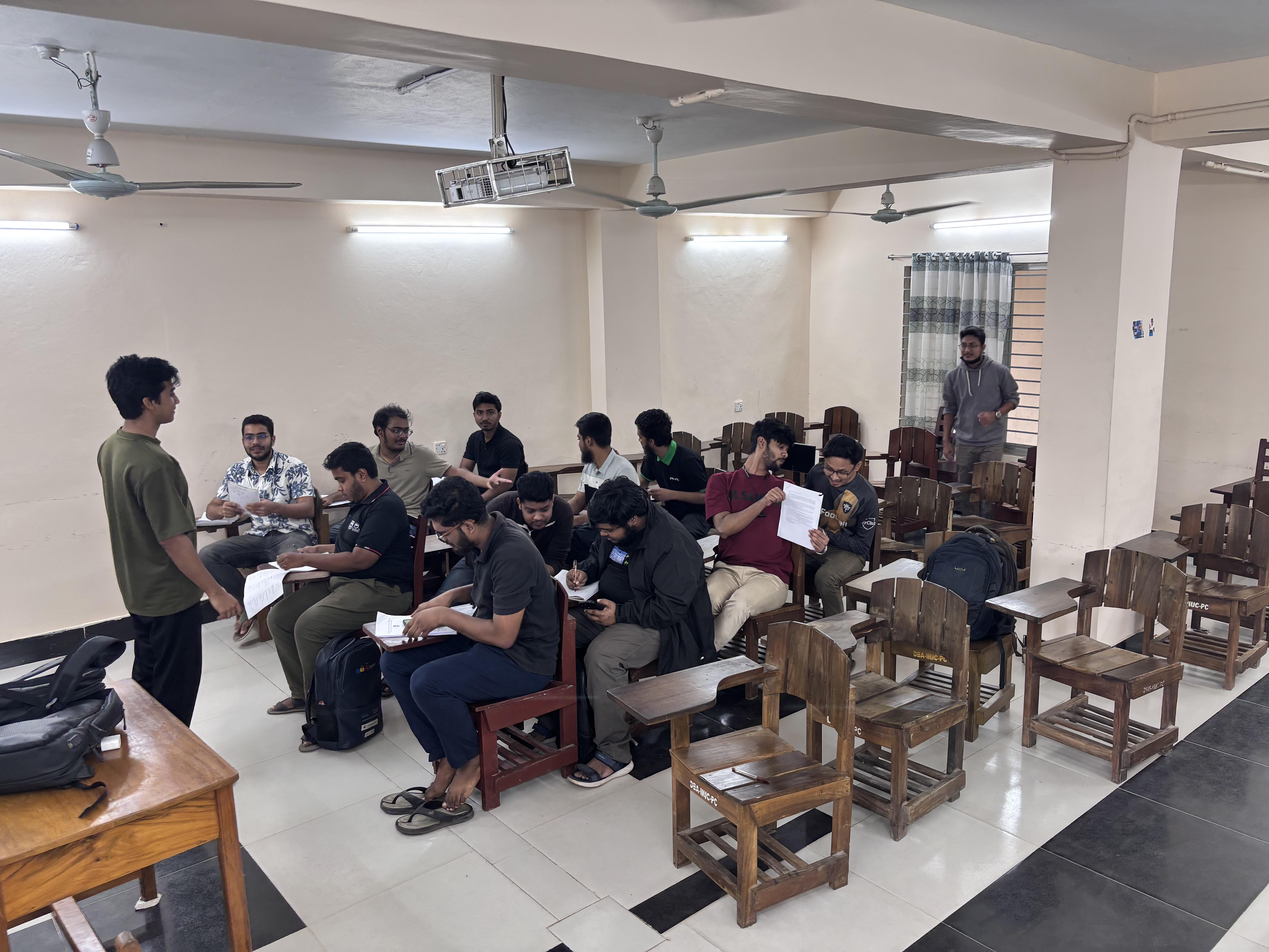copying: (488, 462, 577, 560), (629, 397, 700, 491)
hidden_communication: (711, 411, 881, 556)
invigilator: (99, 344, 237, 674), (934, 322, 1024, 484)
no_cheating: (377, 470, 519, 688), (559, 478, 680, 662), (277, 436, 394, 589), (201, 399, 318, 551), (453, 392, 532, 498)
suspicious_moving: (351, 403, 517, 503), (562, 410, 631, 499)
